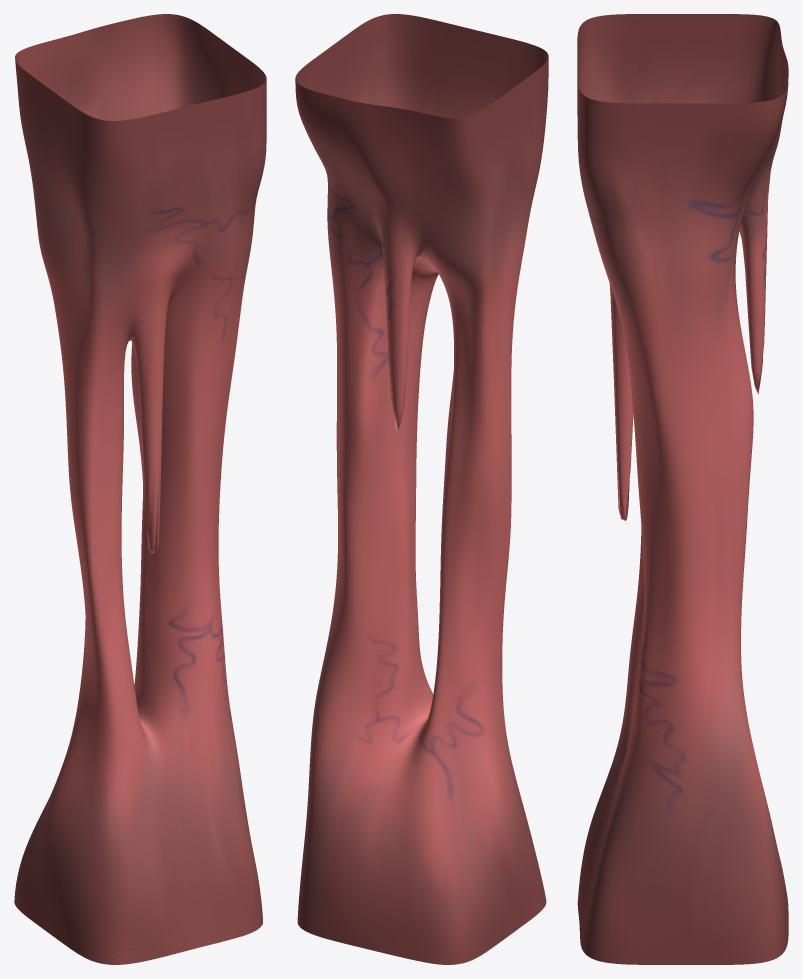
Rendered from cave_column_double.fbx.
3 views of the same model, side by side, from view 1: azimuth 30°, elevation 25°; view 2: azimuth 150°, elevation 25°; view 3: azimuth 270°, elevation 25° (orthographic). The views are drawn at different scales.
Parts seen in each view (by area): view 1: cave_column_double; view 2: cave_column_double; view 3: cave_column_double.
Part boxes in pixels (<box>): cave_column_double: <box>14,14,266,964</box>; cave_column_double: <box>295,14,548,964</box>; cave_column_double: <box>577,14,788,964</box>.
Bounding box in the file's own units: 67.28 × 301 × 66.66.
Materials: 1 (1 with a texture image).
